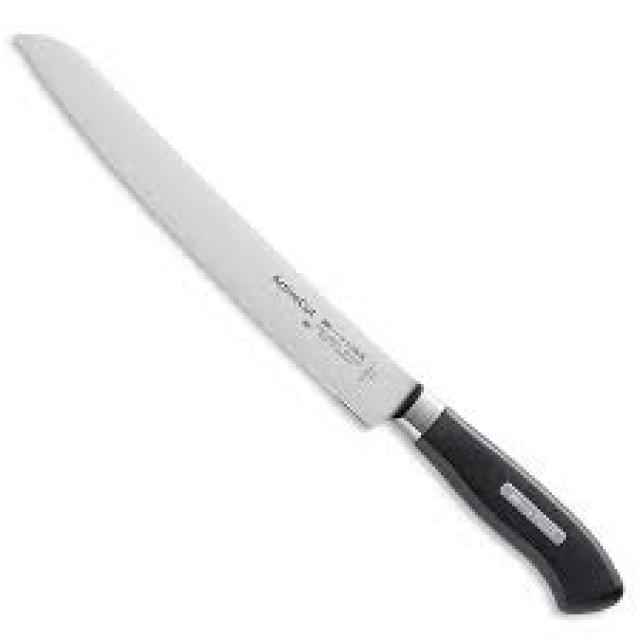Knife: (11, 31, 623, 612)
